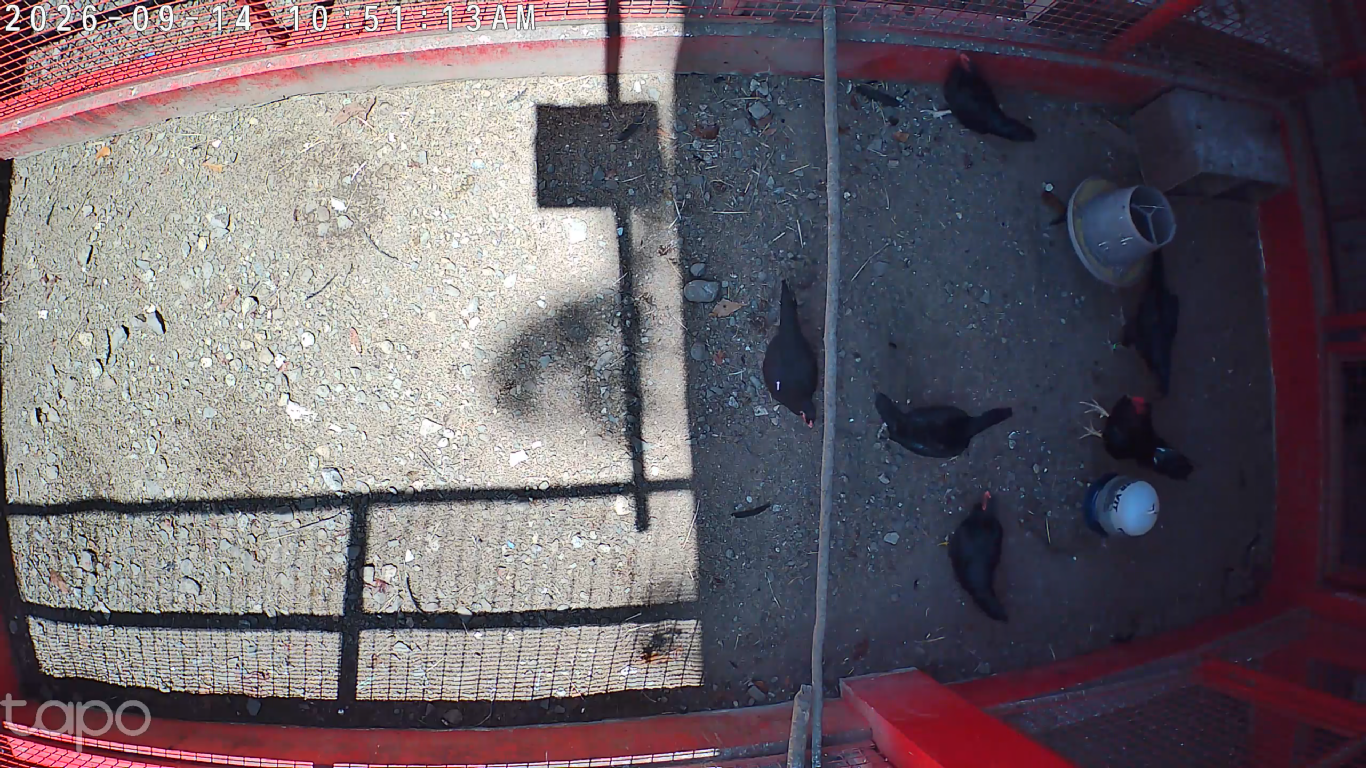Chicken: (1104, 242, 1184, 395), (871, 386, 1015, 470), (917, 49, 1038, 145), (753, 278, 825, 430), (935, 486, 1010, 627)
Feeder: (1060, 172, 1180, 289)
Rooster: (1072, 384, 1198, 483)
